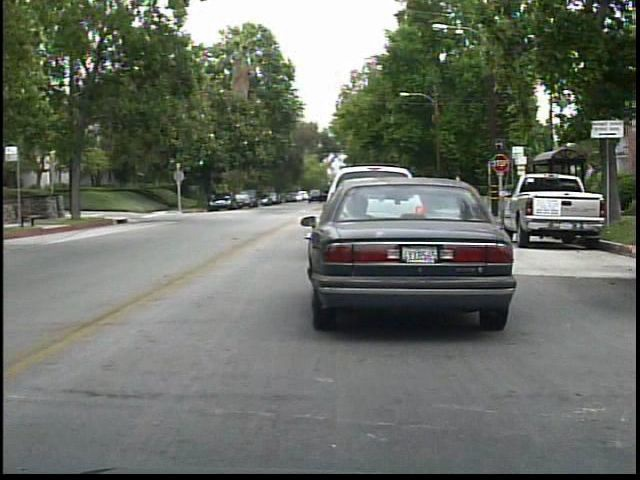person: (225, 182, 240, 209)
